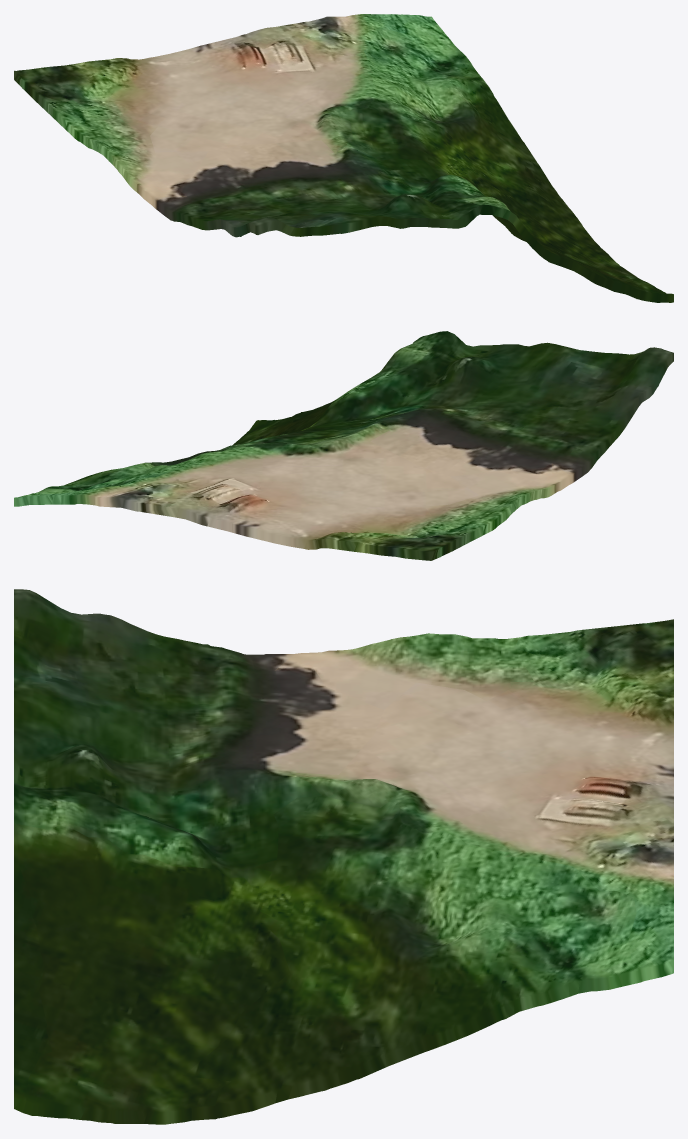
Rendered from z20-167554-405172-h0-yup-uvflip-v3-world.glb.
The picture shows the model from 3 angles, top to bottom: view 1: azimuth 30°, elevation 25°; view 2: azimuth 150°, elevation 25°; view 3: azimuth 270°, elevation 25°; orthographic projection. The views are drawn at different scales.
Bounding box in the file's own units: 30.16 × 13.16 × 30.32.
1 material, 1 textured.
